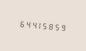eight: (47, 20, 52, 31)
five: (41, 19, 46, 31), (53, 20, 58, 32)
four: (29, 18, 34, 30), (23, 18, 28, 29)
nine: (59, 21, 64, 32)
one: (35, 19, 40, 30)
six: (17, 17, 22, 29)
